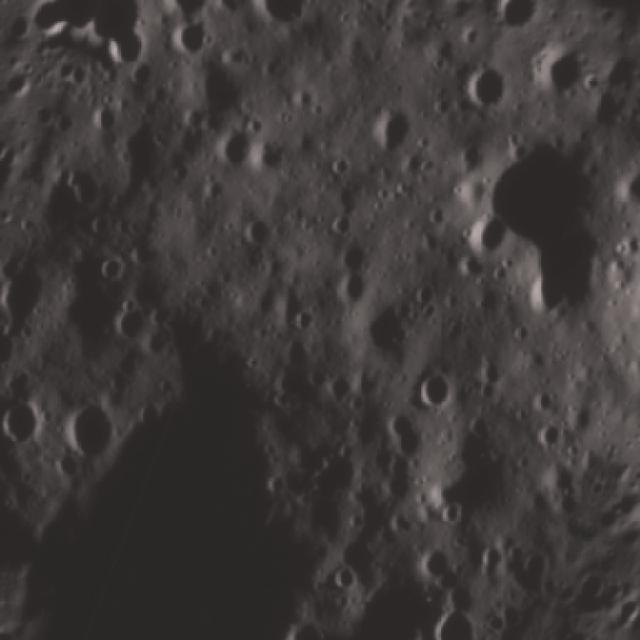crater: (421, 90, 640, 347), (96, 104, 195, 211), (39, 385, 133, 478), (341, 288, 433, 380), (352, 86, 442, 174), (78, 0, 174, 82), (448, 48, 534, 129), (368, 394, 446, 472), (452, 199, 525, 270), (238, 0, 337, 49), (0, 381, 55, 460), (403, 532, 468, 596), (414, 592, 495, 640), (203, 112, 263, 174), (406, 358, 466, 420), (167, 12, 222, 66), (232, 205, 285, 261), (152, 0, 237, 31), (318, 552, 368, 602), (516, 372, 564, 423), (529, 412, 573, 460)
